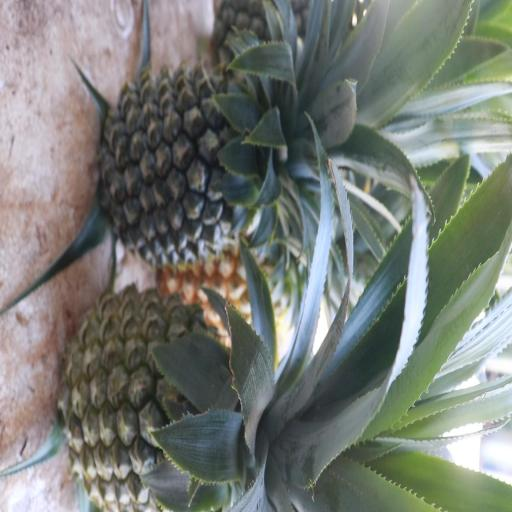------------------------------: (61, 285, 275, 506)
